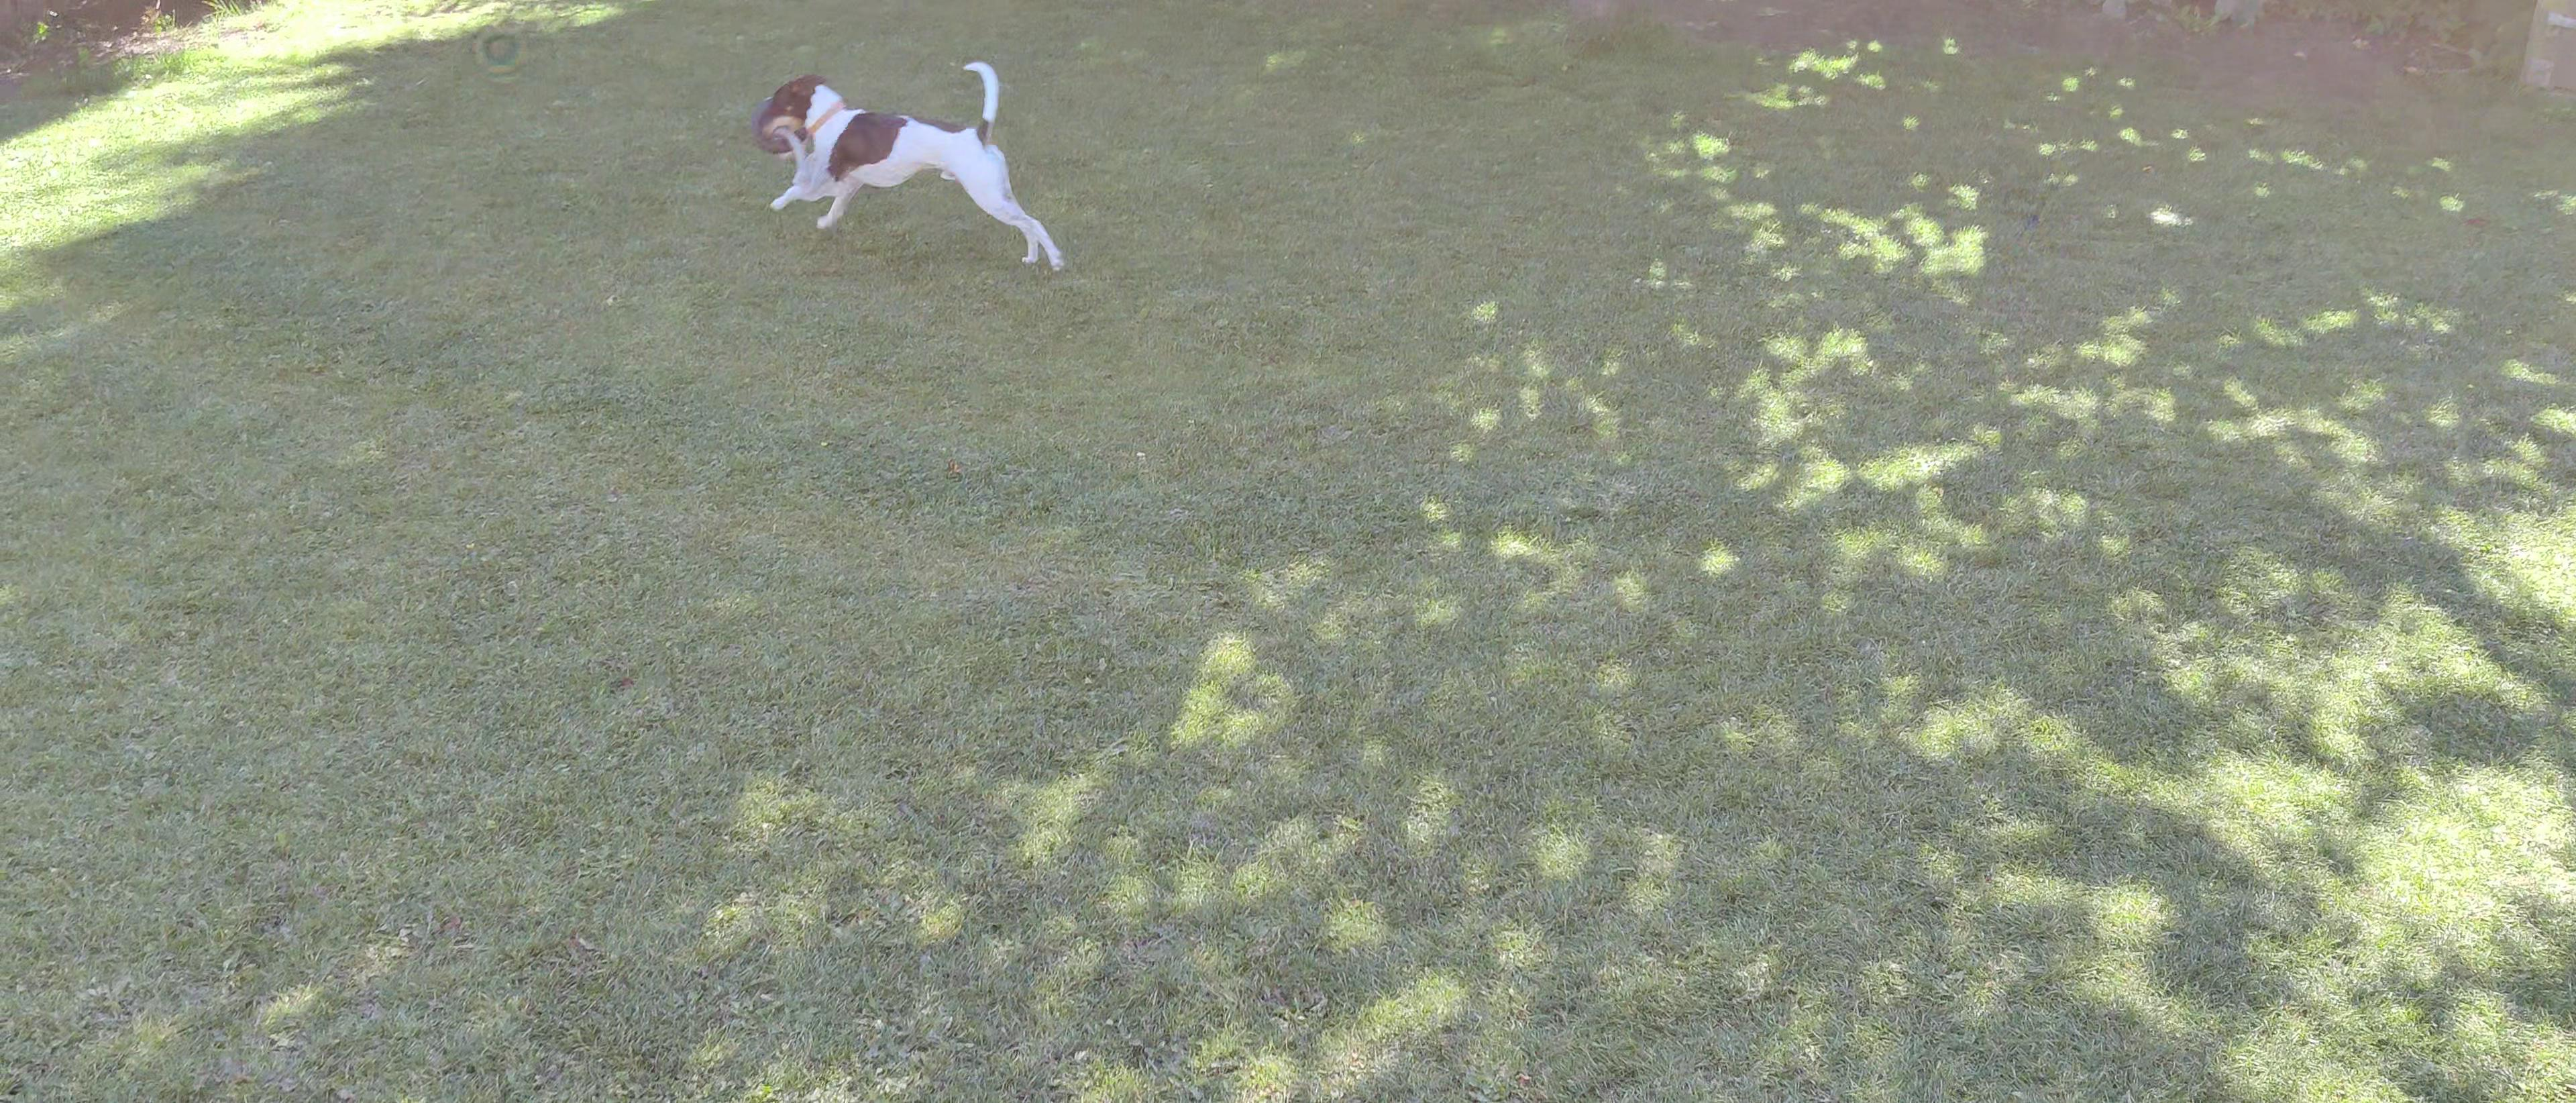Dog: (754, 59, 1066, 273)
